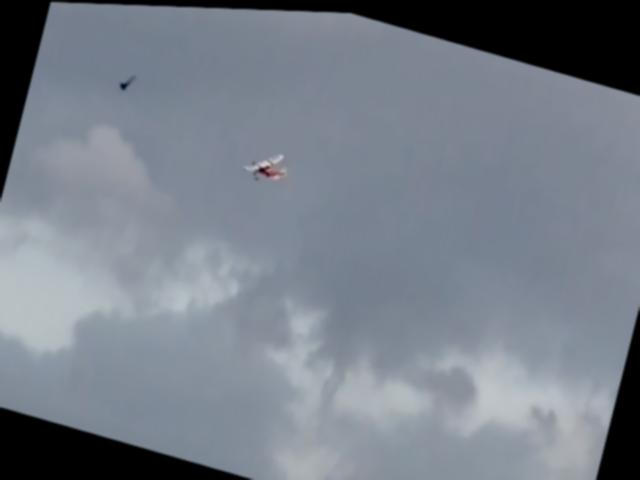plane: (241, 143, 289, 186)
